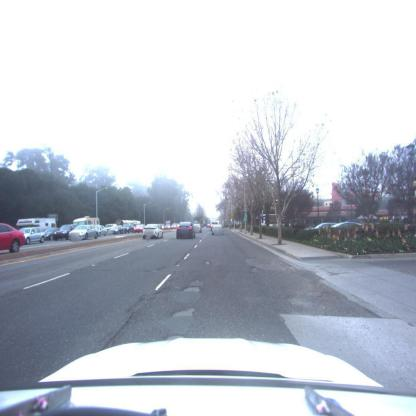car: (0, 223, 26, 254), (68, 219, 102, 241), (20, 220, 54, 242), (20, 228, 48, 245), (51, 225, 75, 242), (142, 224, 164, 239), (176, 224, 196, 240), (104, 224, 119, 235), (211, 224, 224, 236), (122, 223, 133, 234), (193, 223, 204, 234), (133, 224, 146, 232), (206, 223, 212, 228)
truck: (17, 218, 58, 230)
